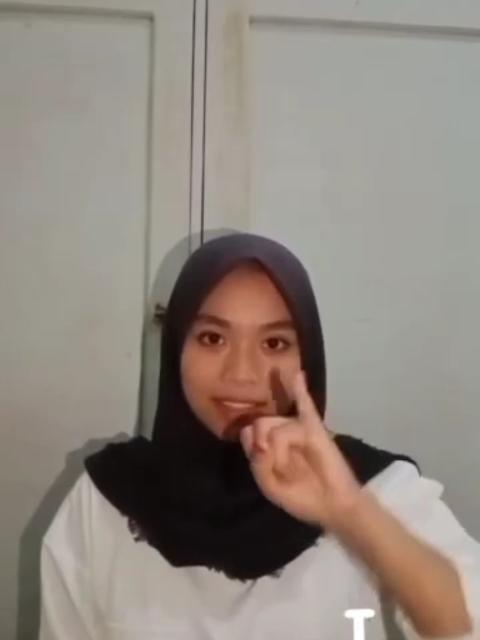I: (232, 374, 358, 528)
